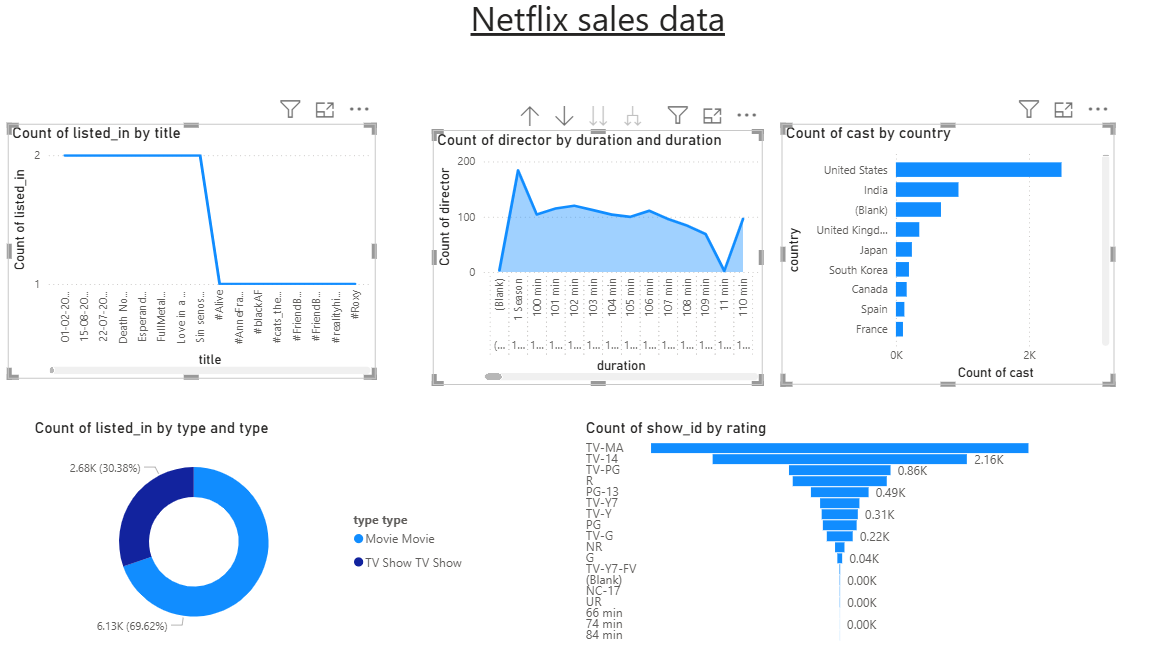

Layout of this report page (visuals, bound fields, positions):
{"tool":"powerbi","page":{"name":"Page 1","canvas":[1280,720],"ordinal":0},"visuals":[{"type":"barChart","fields":{"Category":["netflix_titles.country"],"Y":["CountNonNull(netflix_titles.cast)"]},"box":[870,146.8,365,286.8],"z":0},{"type":"funnel","fields":{"Category":["netflix_titles.rating"],"Y":["CountNonNull(netflix_titles.show_id)"]},"box":[650.4,470.7,500.9,249.7],"z":1},{"type":"donutChart","fields":{"Category":["netflix_titles.type","netflix_titles.type","netflix_titles.listed_in"],"Y":["CountNonNull(netflix_titles.listed_in)"]},"box":[45.3,470.7,488.5,249.7],"z":2},{"type":"areaChart","fields":{"Category":["netflix_titles.duration","netflix_titles.duration"],"Y":["CountNonNull(netflix_titles.director)"]},"box":[487.1,153.7,362.3,279.9],"z":3},{"type":"lineChart","fields":{"Category":["netflix_titles.title"],"Y":["CountNonNull(netflix_titles.listed_in)"]},"box":[20.6,146.8,403.4,279.9],"z":4},{"type":"textbox","box":[487.1,0,362.3,122.1],"z":5}]}

Visuals, with their boxes in screenshot pixels (x1, y1, x2, y2), scaled from the page's 1280x720 canvas onto the 1150x646 screenshot:
barChart - netflix_titles.country x CountNonNull(netflix_titles.cast): x1=782 y1=132 x2=1110 y2=389
funnel - netflix_titles.rating x CountNonNull(netflix_titles.show_id): x1=584 y1=422 x2=1034 y2=645
donutChart - netflix_titles.type x netflix_titles.type: x1=41 y1=422 x2=480 y2=645
areaChart - netflix_titles.duration x netflix_titles.duration: x1=438 y1=138 x2=763 y2=389
lineChart - netflix_titles.title x CountNonNull(netflix_titles.listed_in): x1=19 y1=132 x2=381 y2=383
textbox: x1=438 y1=0 x2=763 y2=110
